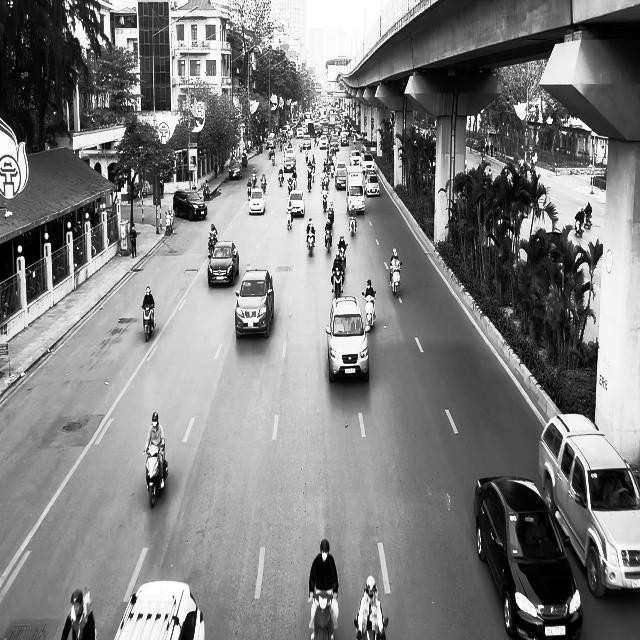car: (538, 412, 640, 598), (473, 475, 583, 639), (114, 581, 205, 639), (325, 295, 370, 382), (234, 268, 274, 338), (208, 240, 240, 286), (172, 188, 208, 221), (288, 190, 305, 216), (249, 188, 265, 214), (228, 160, 242, 180)
motorbike: (144, 443, 168, 508), (361, 290, 376, 330), (142, 304, 156, 342), (389, 262, 402, 298), (306, 229, 315, 256), (208, 233, 217, 258), (324, 225, 332, 253), (348, 210, 356, 237), (286, 206, 294, 230)
